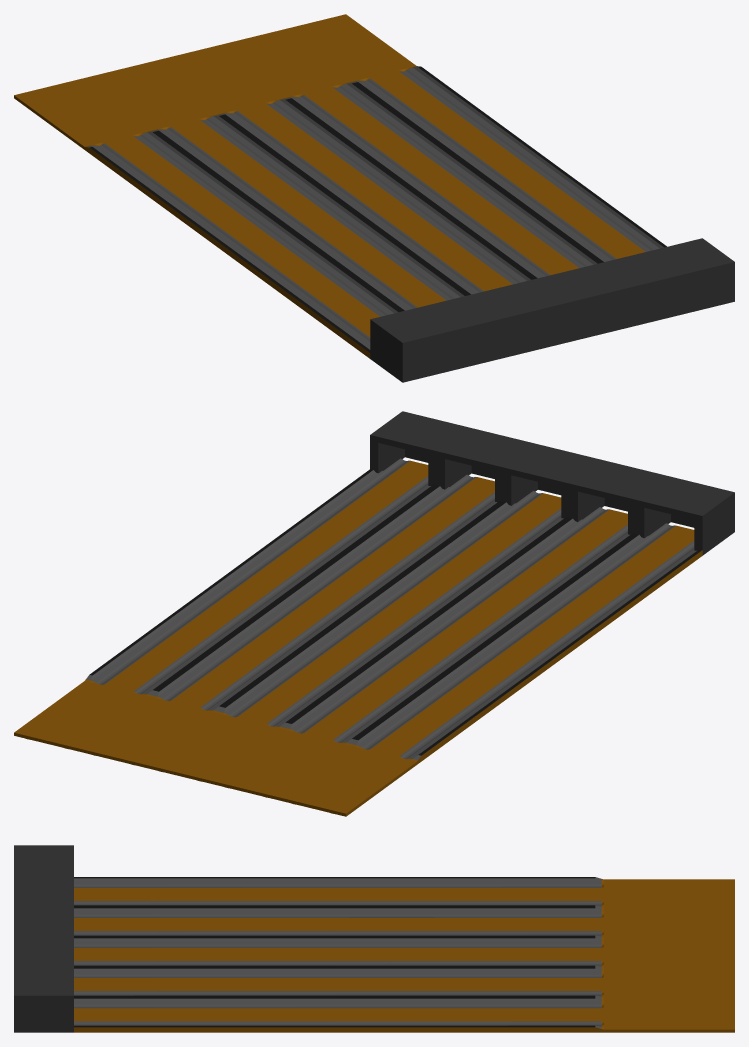
File: bowling_lane.glb
3 views of the same model, one above another, from view 1: azimuth 30°, elevation 25°; view 2: azimuth 150°, elevation 25°; view 3: azimuth 270°, elevation 25° (orthographic). The views are drawn at different scales.
Visible parts, largest first — view 1: BowlingLanes, Thingy; view 2: BowlingLanes, Thingy; view 3: BowlingLanes, Thingy.
Part boxes in pixels (x1,y1,x2,y2): BowlingLanes: (14,14,666,358); Thingy: (370,238,734,382); BowlingLanes: (14,458,702,816); Thingy: (370,411,734,555); BowlingLanes: (74,877,734,1032); Thingy: (14,845,73,1032).
Size of the model in its own units: 12.16 by 1.4 by 24.64.
1 material, 1 textured.
